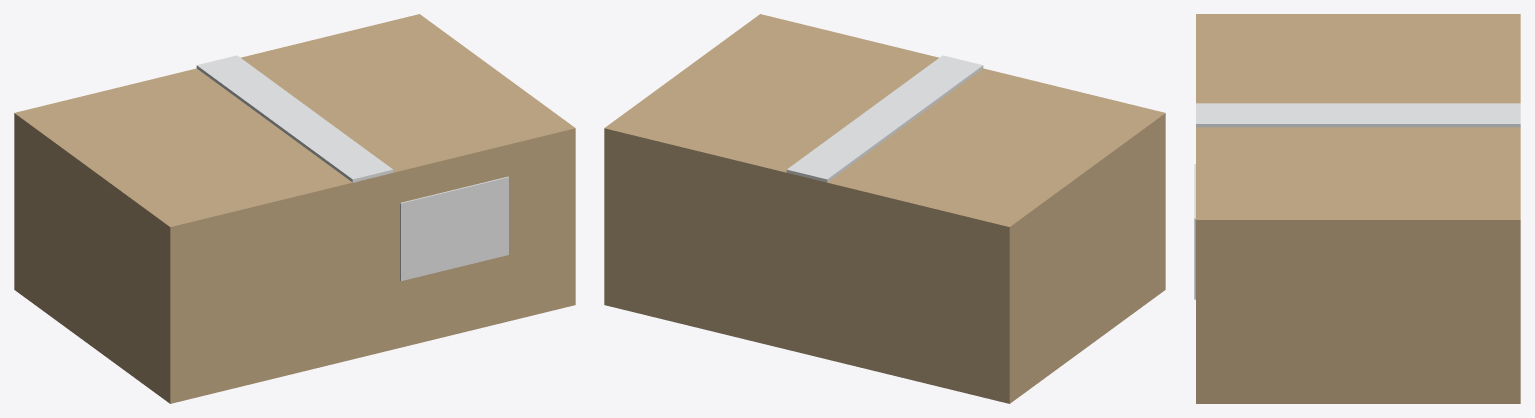
Rendered from SM_PROP_CARTON.fbx.
The picture shows the model from 3 angles, left to right: view 1: azimuth 30°, elevation 25°; view 2: azimuth 150°, elevation 25°; view 3: azimuth 270°, elevation 25°; orthographic projection. The views are drawn at different scales.
Visible parts, largest first — view 1: SM_PROP_CARTON; view 2: SM_PROP_CARTON; view 3: SM_PROP_CARTON.
Part boxes in pixels (x1,y1,x2,y2): SM_PROP_CARTON: [14, 14, 575, 403]; SM_PROP_CARTON: [604, 14, 1165, 403]; SM_PROP_CARTON: [1194, 14, 1520, 403].
Bounding box in the file's own units: 60 × 25.45 × 40.2.
